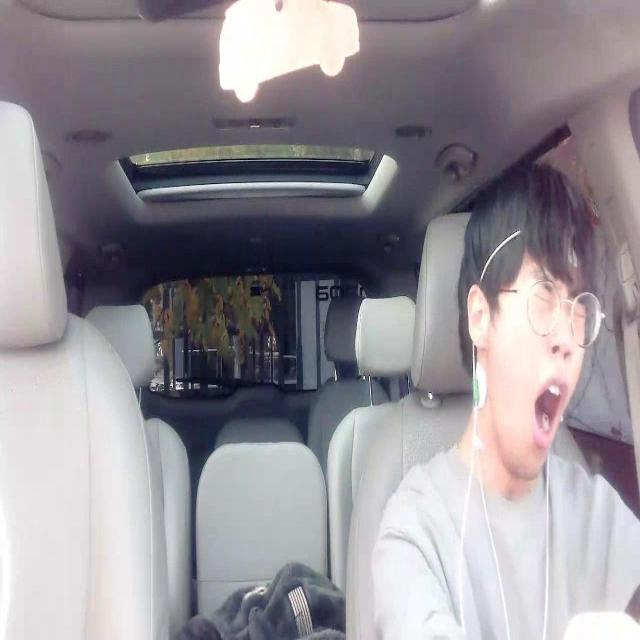Yawning: (530, 359, 568, 441)
